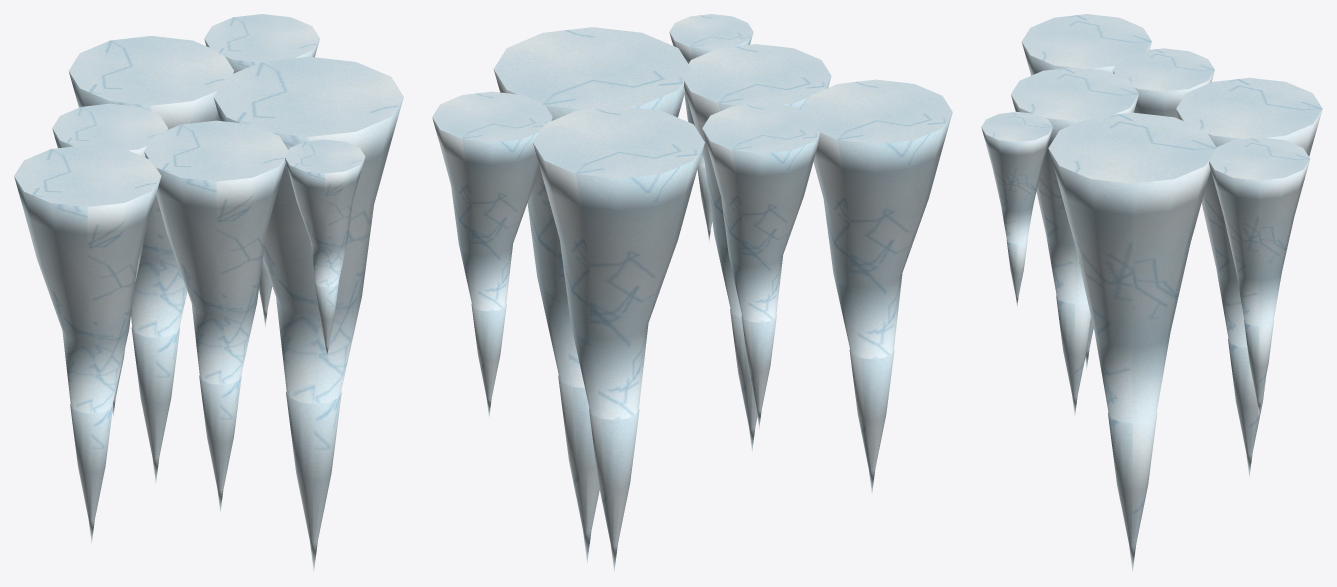
File: Estalacticahielo.fbx
The picture shows the model from 3 angles, left to right: view 1: azimuth 30°, elevation 25°; view 2: azimuth 150°, elevation 25°; view 3: azimuth 270°, elevation 25°; orthographic projection. The views are drawn at different scales.
Visible parts, largest first — view 1: estalactita.006; view 2: estalactita.006; view 3: estalactita.006.
Boxes of the visible parts, x1,y1,x2,y2 form: estalactita.006: (14, 14, 403, 572); estalactita.006: (432, 14, 952, 571); estalactita.006: (981, 14, 1322, 571).
Size of the model in its own units: 175 by 204 by 149.
